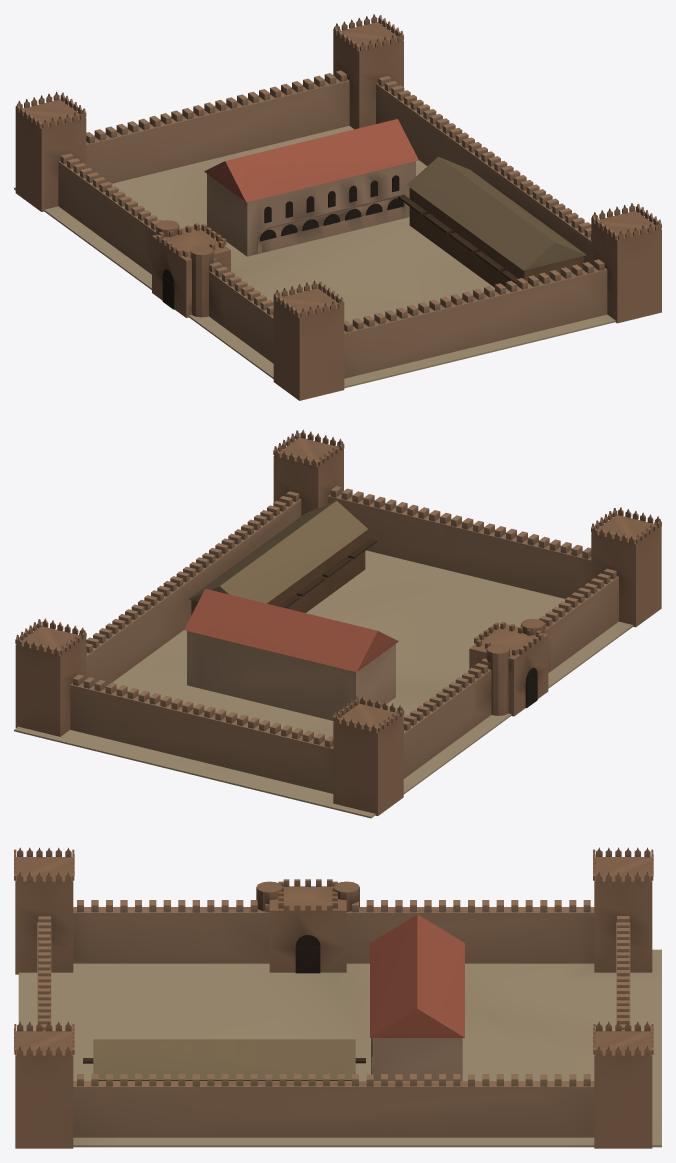
Rendered from doges-castle.glb.
3 renders of one model, top to bottom at view 1: azimuth 30°, elevation 25°; view 2: azimuth 150°, elevation 25°; view 3: azimuth 270°, elevation 25°, orthographic. The views are drawn at different scales.
Parts seen in each view (by area): view 1: p0_walls, p1_towers; view 2: p0_walls, p1_towers; view 3: p0_walls, p1_towers.
Part boxes in pixels (x1,y1,x2,y2): p0_walls: (14,70,615,388); p1_towers: (15,14,661,400); p0_walls: (14,486,633,818); p1_towers: (15,429,661,815); p0_walls: (18,900,661,1147); p1_towers: (14,847,653,1148).
Size of the model in its own units: 73.53 by 17.59 by 101.
